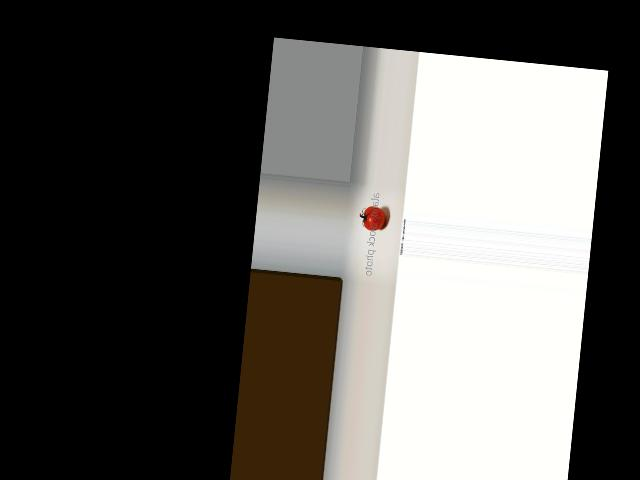tomato: (362, 205, 386, 232)
